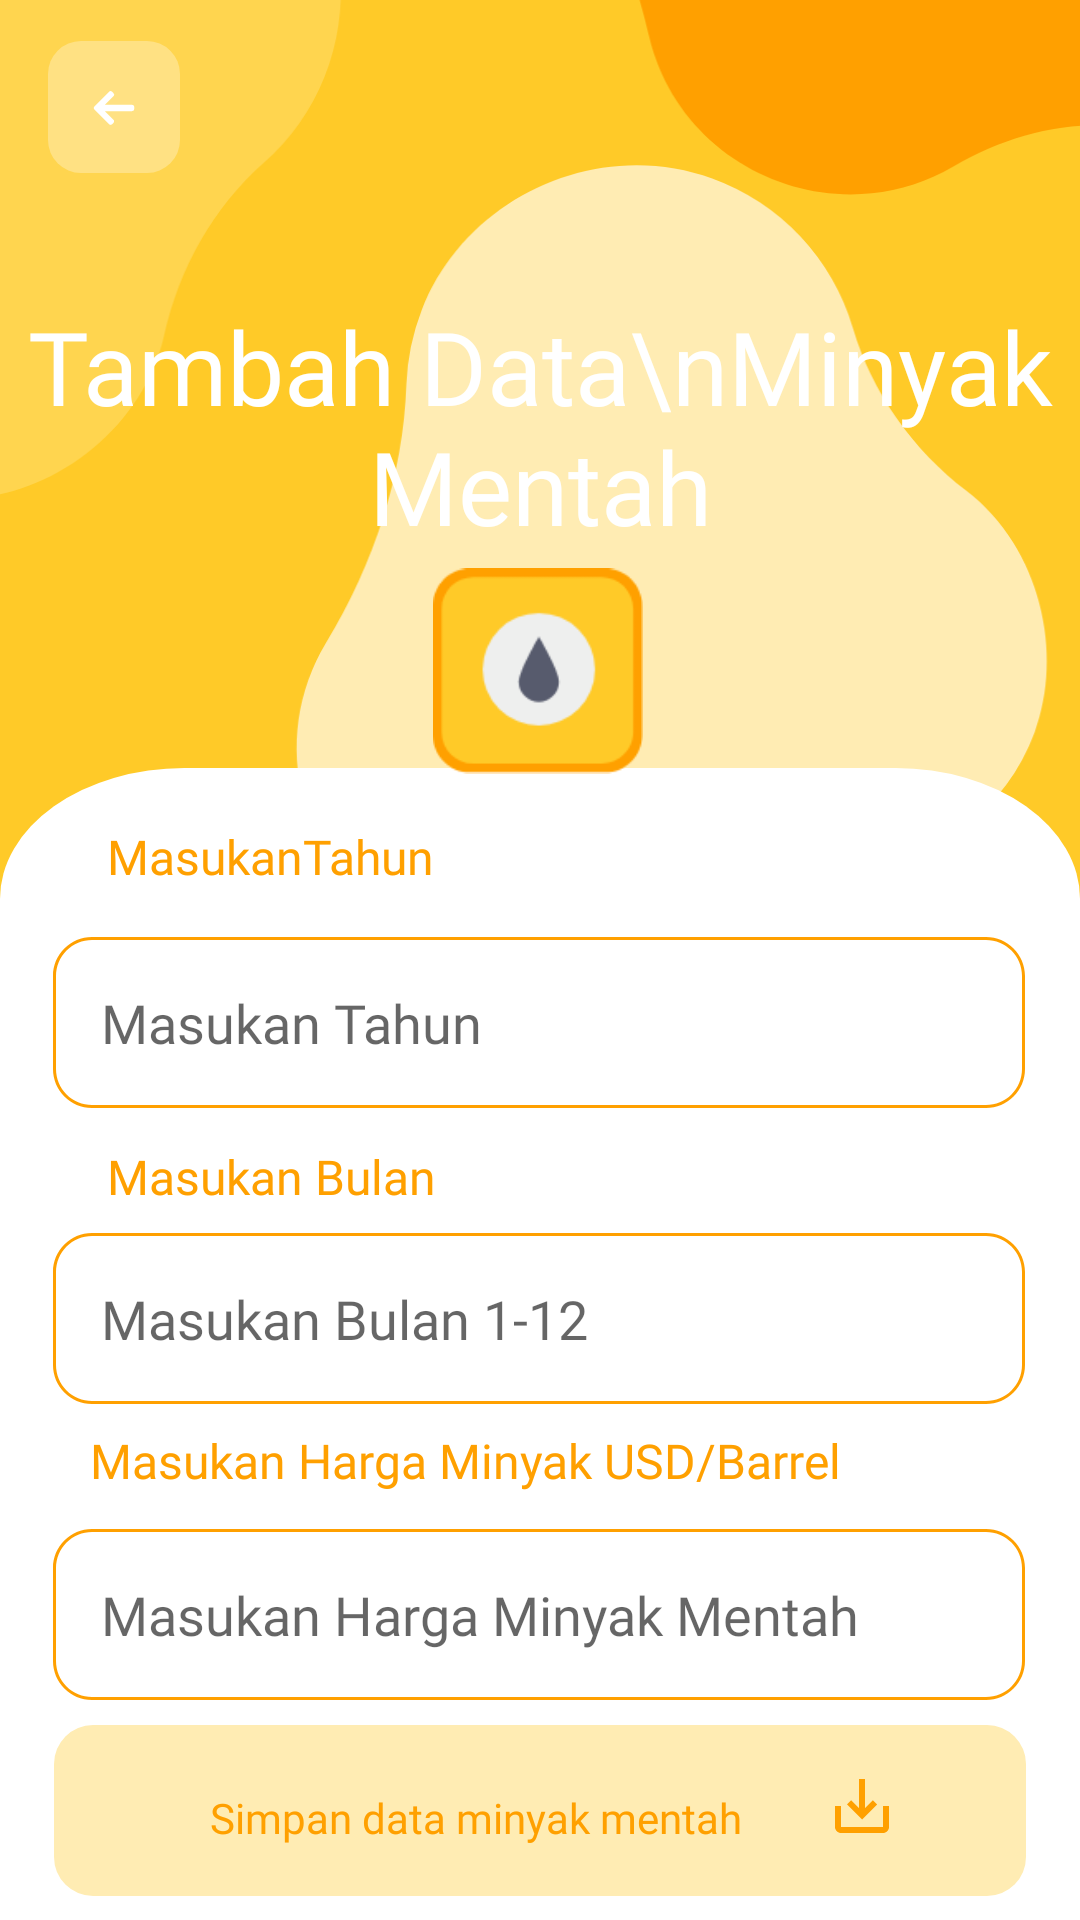

Point at icon controls on the screen. Image size 1080px×1920px, points as point (x, y).
back: point (114, 107)
oil: point (538, 672)
save: point (862, 1806)
